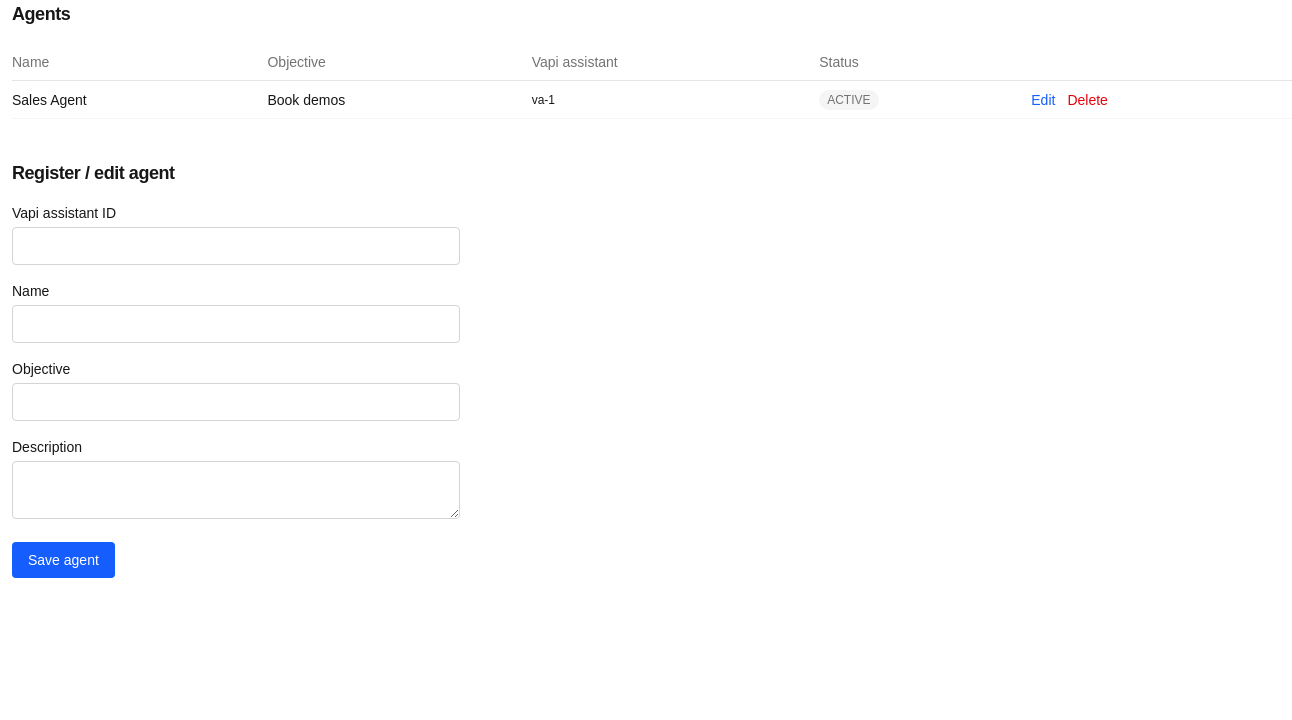
it: AgentsView › prefills the form when an existing agent row is selected for edit
Expected: the text "Sales Agent" is shown, [12,80,268,118]
Click the button "Edit".
click(1043, 100)  # box [1031,90,1055,110]
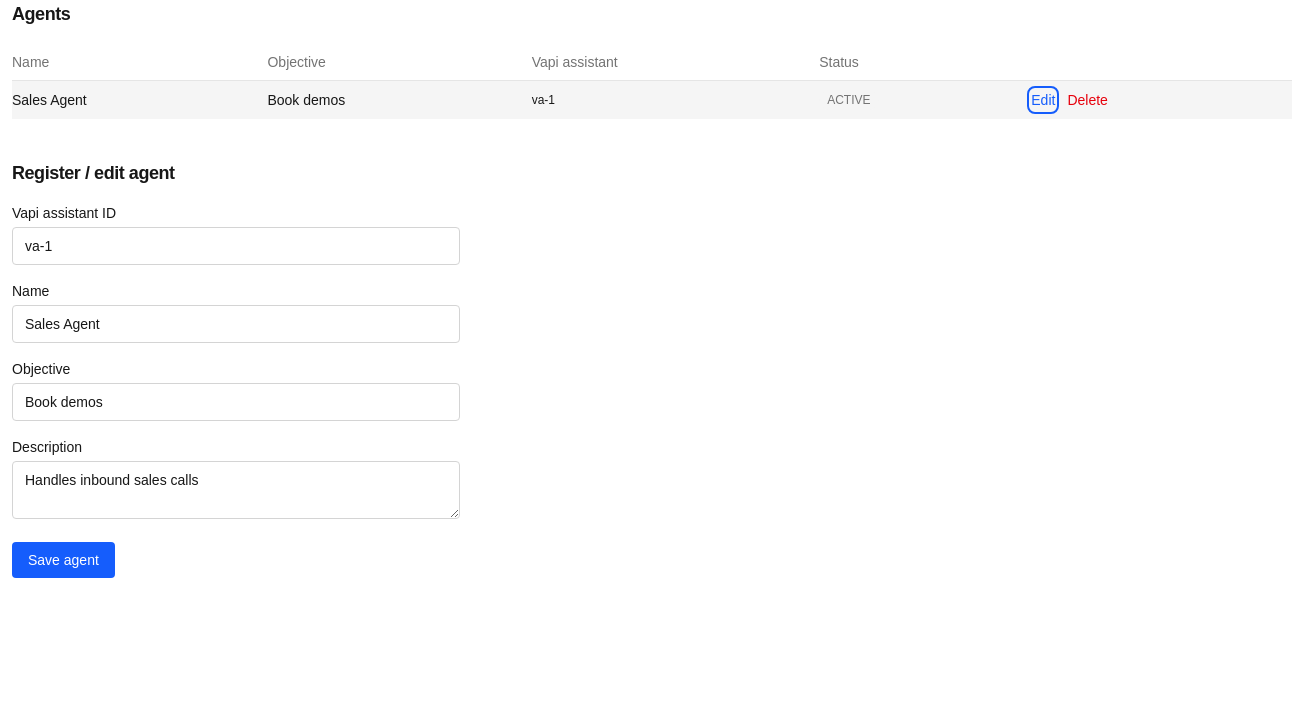
Result: the field labelled "Vapi assistant ID" holds "va-1" at [12,227,460,265]
Result: the field labelled "Name" holds "Sales Agent" at [12,305,460,343]
Result: the field labelled "Objective" holds "Book demos" at [12,383,460,421]
